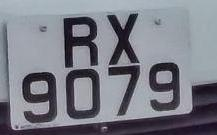0: (59, 65, 108, 123)
7: (107, 58, 148, 123)
9: (12, 64, 61, 127), (142, 58, 187, 116)
R: (54, 9, 107, 72)
X: (100, 6, 149, 69)
